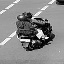motor: (15, 11, 53, 51)
